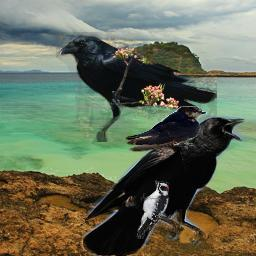Crow: (83, 115, 245, 256), (53, 32, 217, 142)
Swallow: (125, 106, 207, 152)
Woodpecker: (136, 180, 169, 239)
